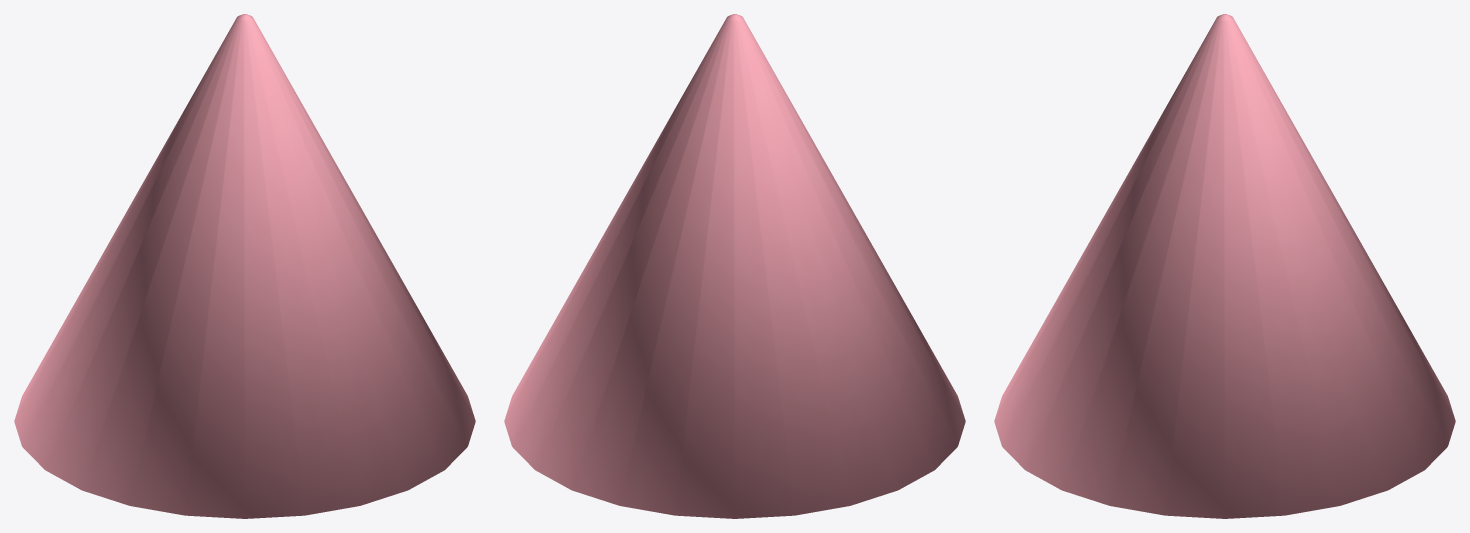
Rendered from ConeBig_1.fbx.
3 views of the same model, side by side, from view 1: azimuth 30°, elevation 25°; view 2: azimuth 150°, elevation 25°; view 3: azimuth 270°, elevation 25° (orthographic).
Visible parts, largest first — view 1: Cone.001; view 2: Cone.001; view 3: Cone.001.
Part boxes in pixels (left/top/right/bottom): Cone.001: left=14, top=14, right=475, bottom=518; Cone.001: left=504, top=14, right=965, bottom=518; Cone.001: left=994, top=14, right=1455, bottom=518.
Bounding box in the file's own units: 400 × 389 × 400.
